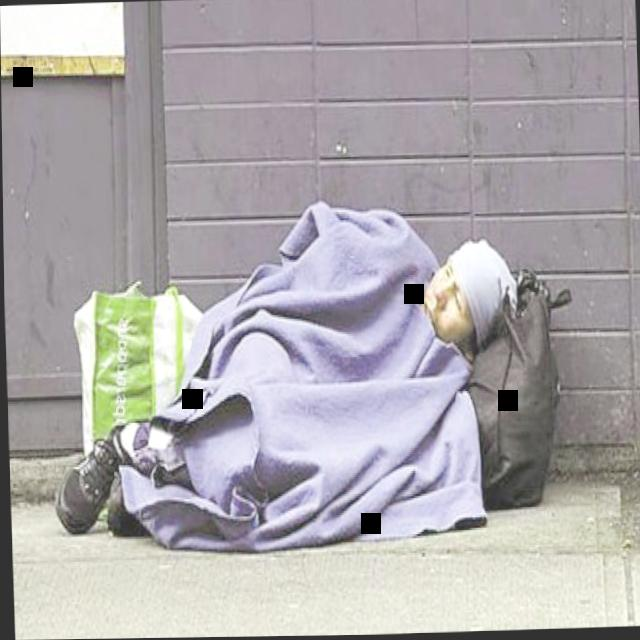Fall-Detected: (31, 170, 594, 560)
